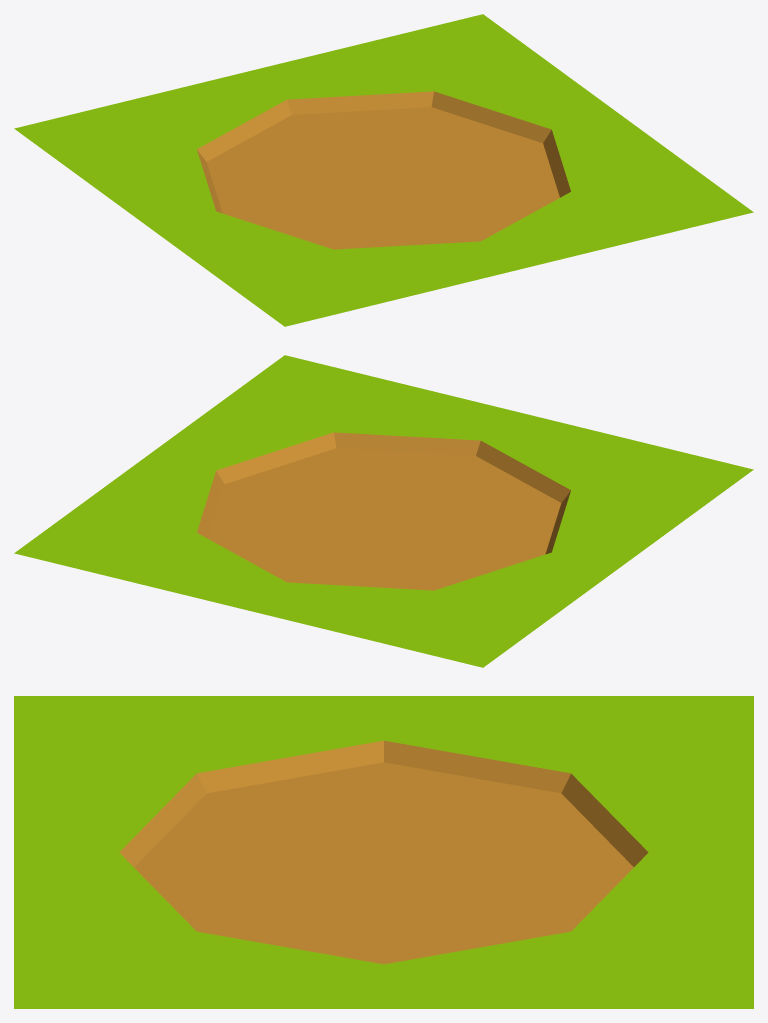
Rendered from Plant_Surface.fbx.
3 views of the same model, one above another, from view 1: azimuth 30°, elevation 25°; view 2: azimuth 150°, elevation 25°; view 3: azimuth 270°, elevation 25° (orthographic). The views are drawn at different scales.
Visible parts, largest first — view 1: Plant_Surface; view 2: Plant_Surface; view 3: Plant_Surface.
Boxes of the visible parts, x1=… form: Plant_Surface: x1=14, y1=14, x2=753, y2=326; Plant_Surface: x1=14, y1=355, x2=753, y2=667; Plant_Surface: x1=14, y1=696, x2=753, y2=1008.
Bounding box in the file's own units: 2 × 0.0475 × 2.
